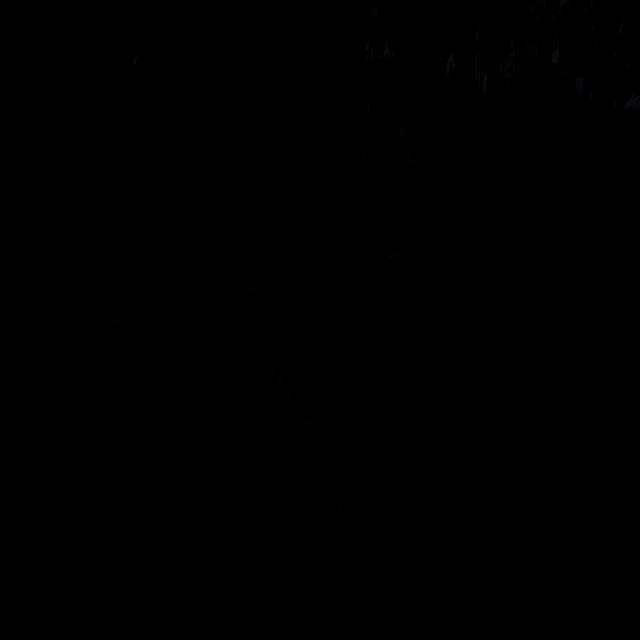empty: (59, 318, 319, 534), (242, 285, 508, 433), (368, 258, 640, 374), (470, 223, 640, 323)
